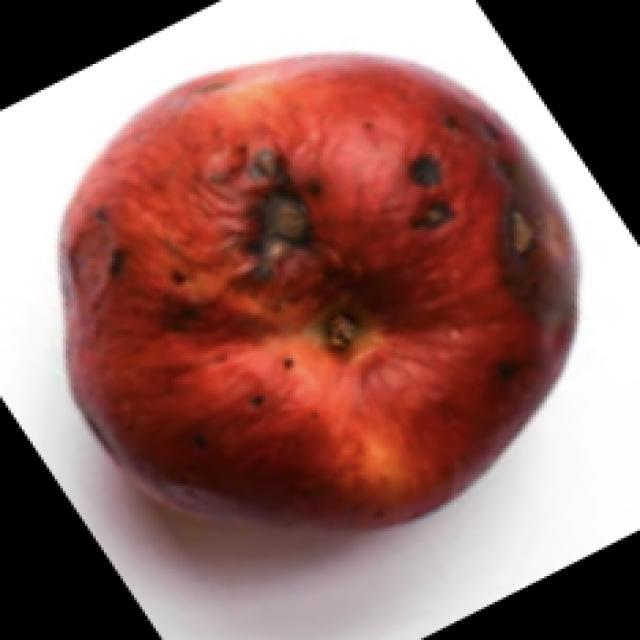Rotten: (67, 69, 563, 518)
